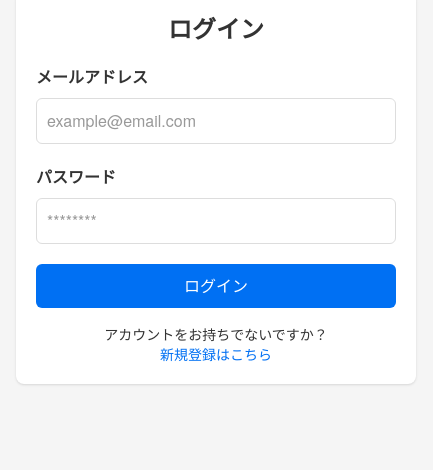
it: ログイン画面 › login がエラーを返した場合はエラーメッセージを表示する
Clear the field labelled "メールアドレス" at (216, 121), box [36,98,396,144]
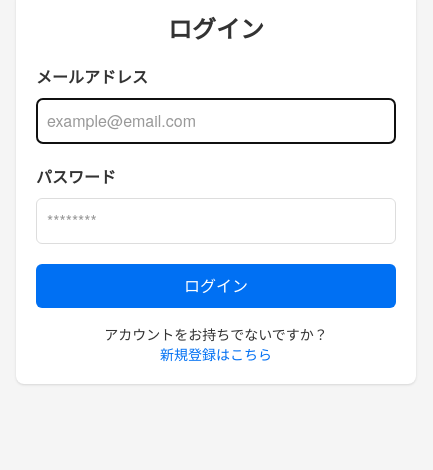
Clear the password field labelled "パスワード" at (216, 221), box [36,198,396,244]
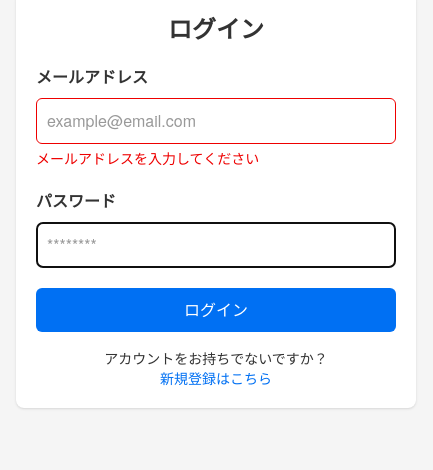
Type "taro@example.com" into the field labelled "メールアドレス" at (216, 121), box [36,98,396,144]
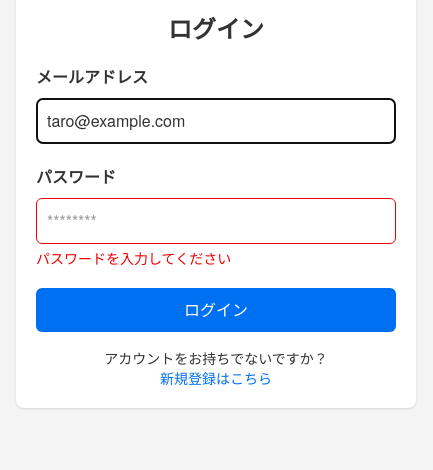
Type "wrong" into the password field labelled "パスワード" at (216, 221), box [36,198,396,244]
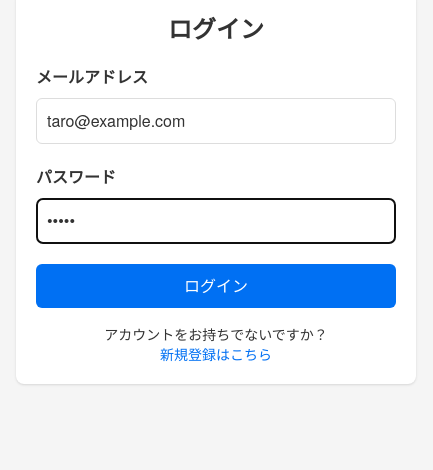
Click the button "ログイン" at (216, 286), box [36,264,396,308]
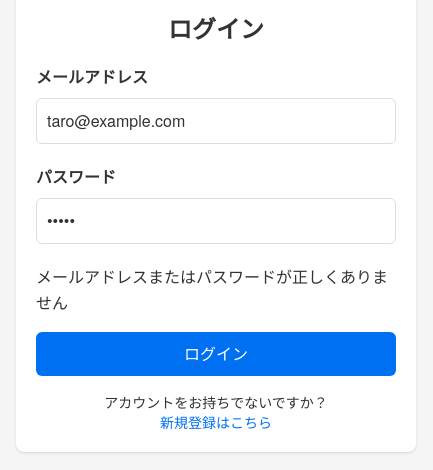
Expected: the text "メールアドレスまたはパスワードが正しくありません" is shown, [36,264,396,316]
